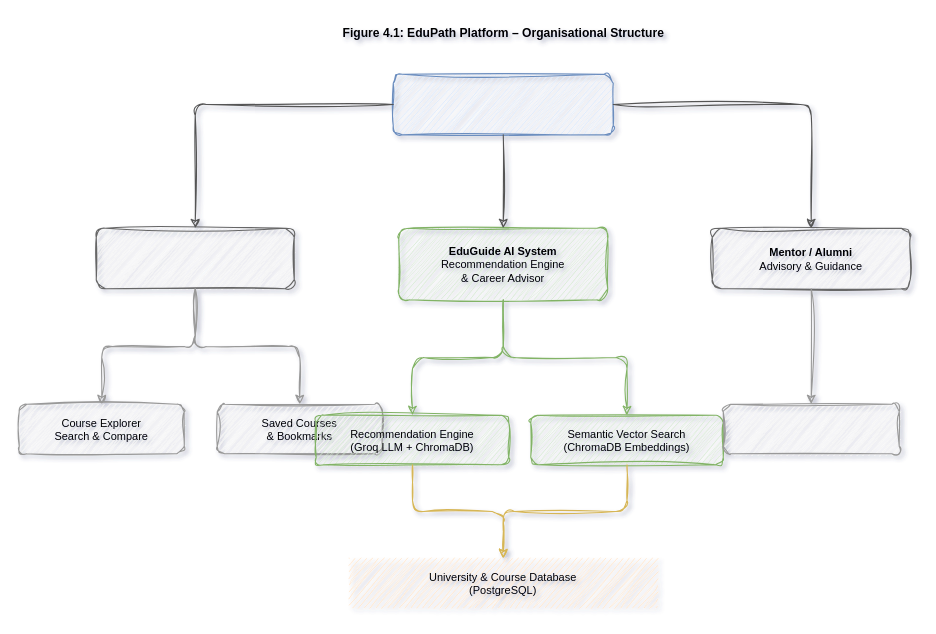
Some shapes in this 936 by 634 pixel diagram are drawn without their labels. The box of each missing label's shape, as (x1, y1, x2, y2) in pixels:
Community Hubs (Advice & Q&A): (722, 403, 899, 454)
Student (Primary User) Course Discovery & AI Guidance: (95, 227, 294, 289)
System Administrator Platform Oversight & Data Management: (392, 73, 613, 135)
